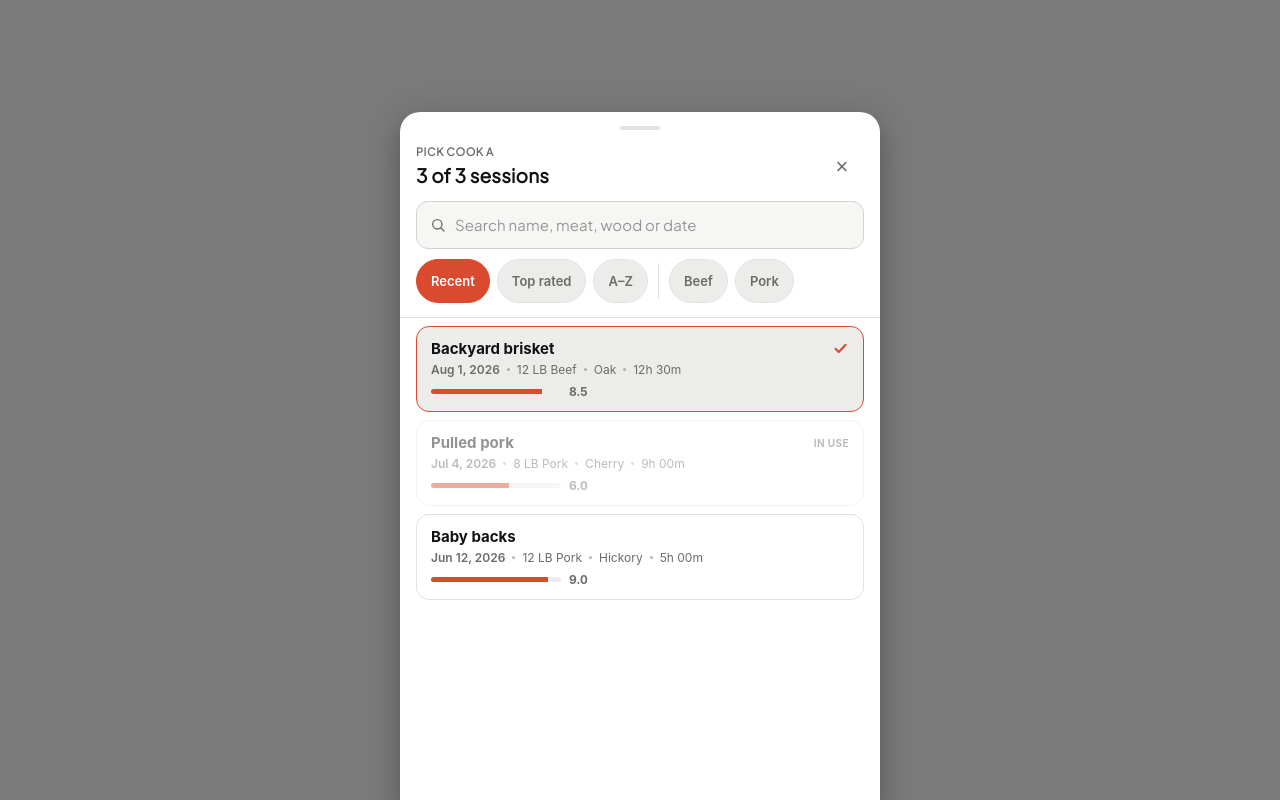
the cook picker sheet › says which slot is being filled, and how much of the archive is in view
This screenshot has width=1280, height=800.
Expected: the dialog with test id "cook-picker" shows "PICK COOK A", [400,112,880,799]
Expected: the heading with test id "cook-picker-count" reads "3 of 3 sessions", [416,162,549,186]
Note: The count is live: it answers "did my search work" while it is typed.
In the search field: point(652, 225) [455,210,850,240], type "pulled"
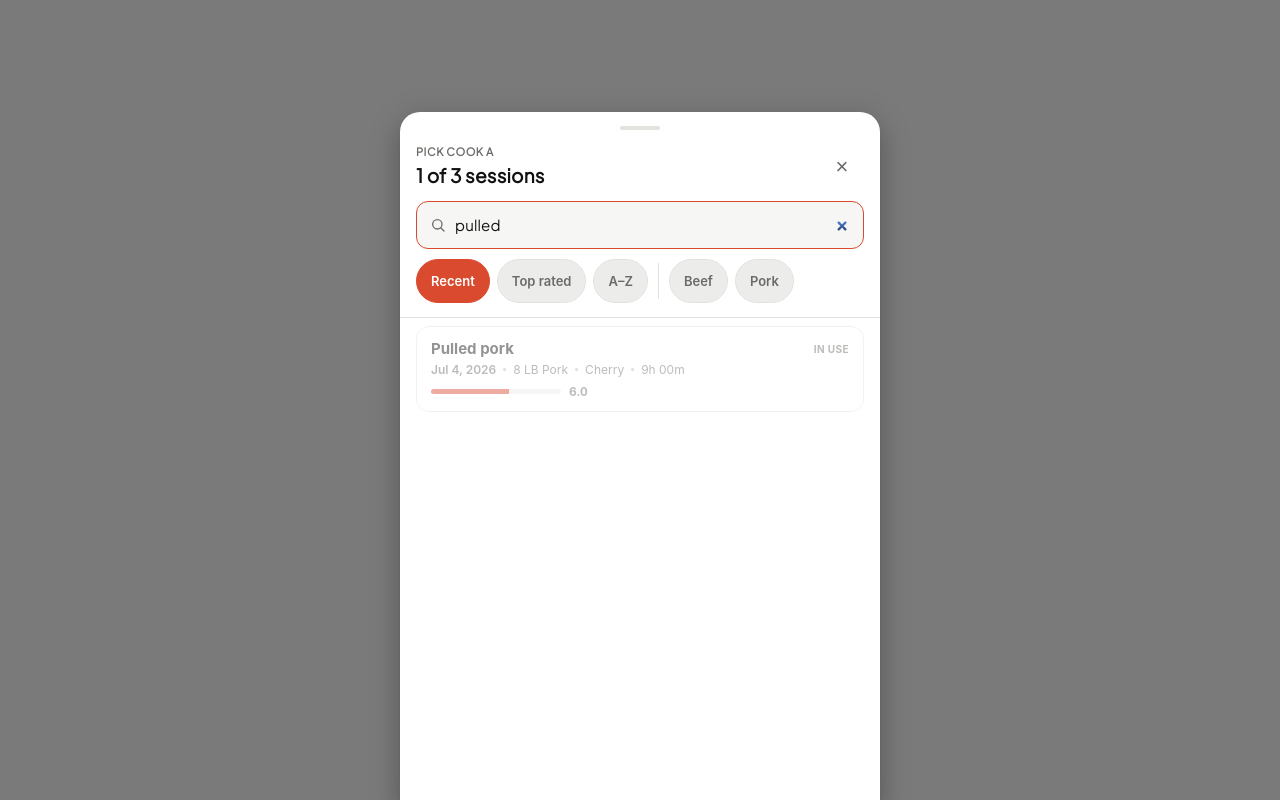
Expected: the heading with test id "cook-picker-count" reads "1 of 3 sessions", [416,162,545,186]
